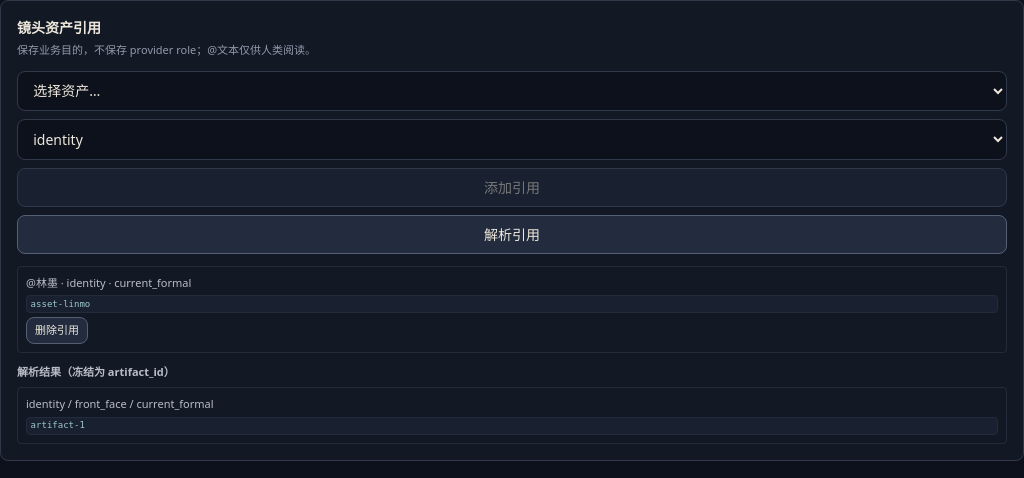
Test: AssetReferencePicker › removes the binding and clears the execution references
Expected: the text "artifact-1" is shown, x1=26 y1=417 x2=998 y2=435
Click the button "删除引用".
click(57, 331)  # box x1=26 y1=317 x2=88 y2=344
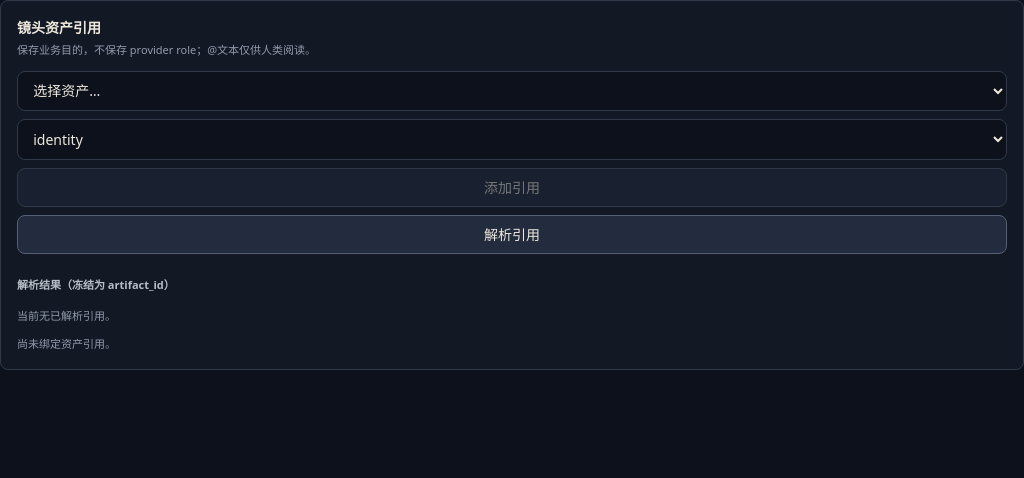
Expected: the text "尚未绑定资产引用。" is shown, x1=17 y1=336 x2=116 y2=352
